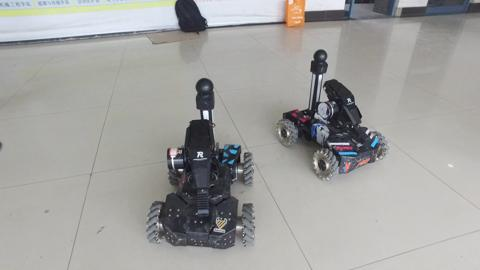chariot: (141, 74, 262, 253), (274, 48, 393, 184)
